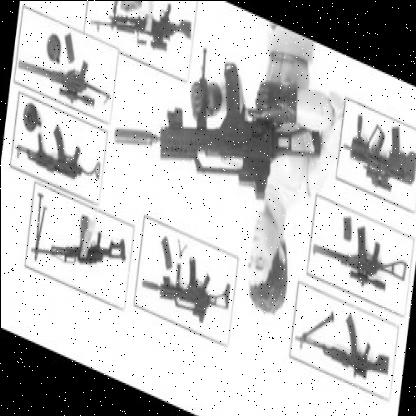rifle: (110, 40, 322, 235), (290, 286, 395, 390), (308, 214, 408, 312), (139, 250, 230, 338), (88, 0, 193, 75), (339, 107, 416, 208), (40, 206, 128, 288), (12, 122, 86, 192)
